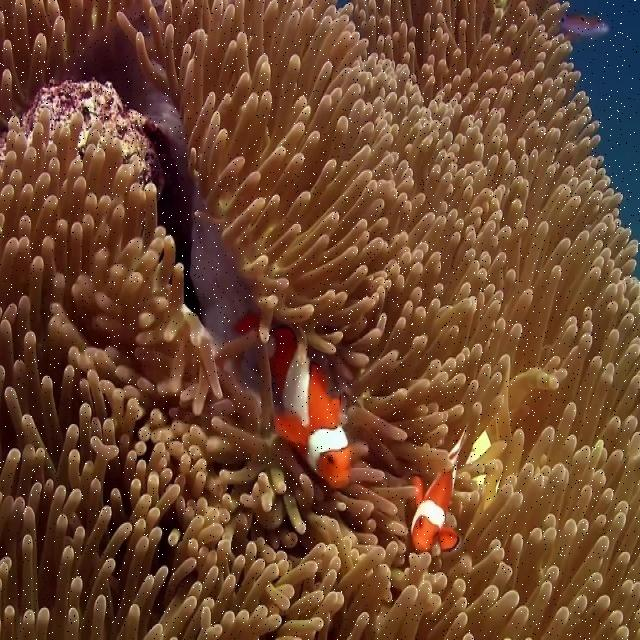aquatic plants: (1, 1, 639, 639)
fish: (233, 317, 351, 486), (408, 422, 469, 552), (559, 23, 608, 35)
